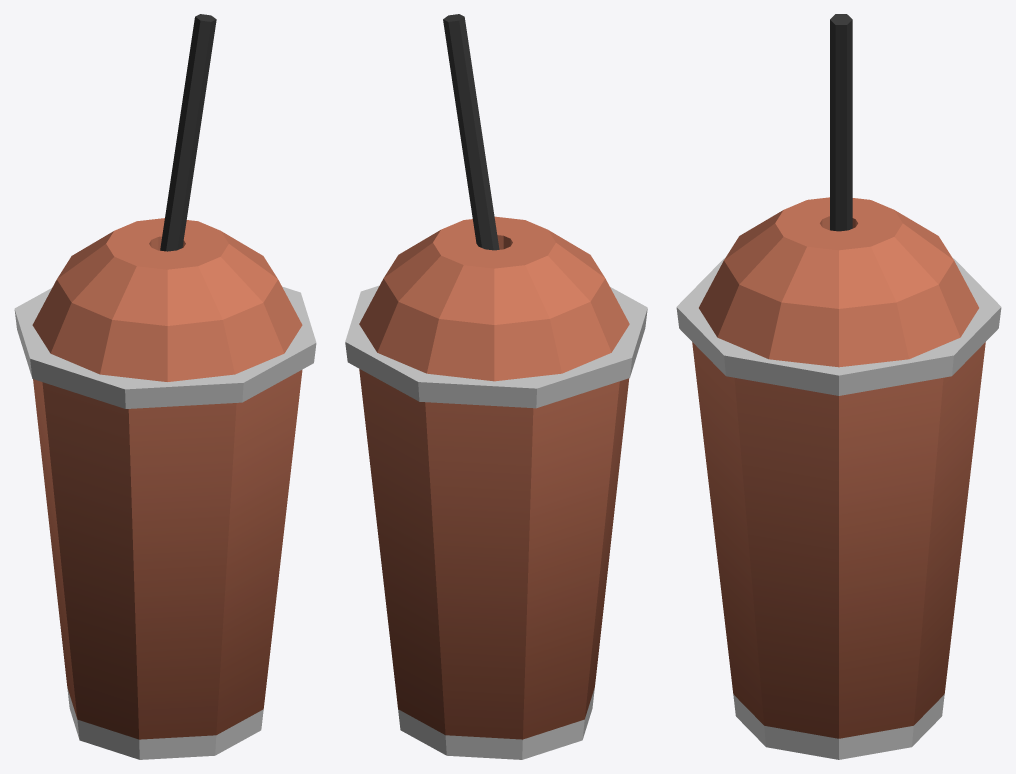
File: SM_Food_Soda_03.fbx
The picture shows the model from 3 angles, left to right: view 1: azimuth 30°, elevation 25°; view 2: azimuth 150°, elevation 25°; view 3: azimuth 270°, elevation 25°; orthographic projection. The views are drawn at different scales.
Parts seen in each view (by area): view 1: SM_Food_Soda_03; view 2: SM_Food_Soda_03; view 3: SM_Food_Soda_03.
Boxes of the visible parts, x1,y1,x2,y2 form: SM_Food_Soda_03: (14,14,316,759); SM_Food_Soda_03: (345,14,647,759); SM_Food_Soda_03: (676,14,1001,759).
Size of the model in its own units: 0.1187 by 0.2898 by 0.1187.
